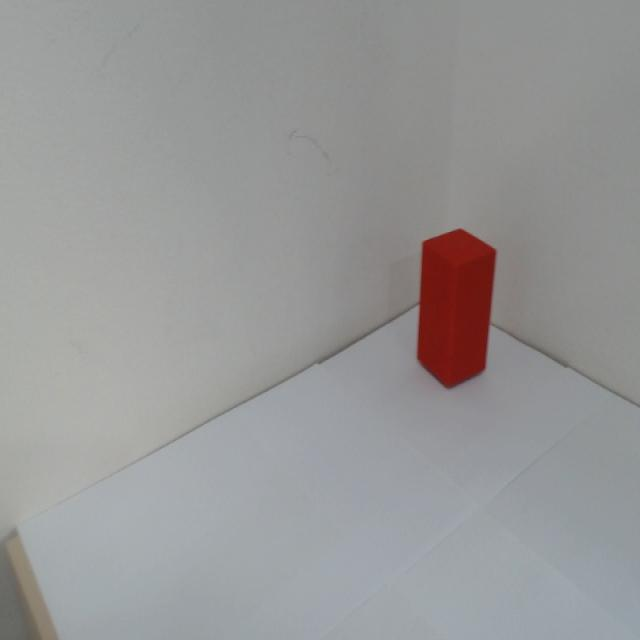cube: (408, 223, 500, 395)
